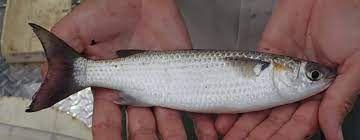Mullet: (22, 19, 337, 121)
